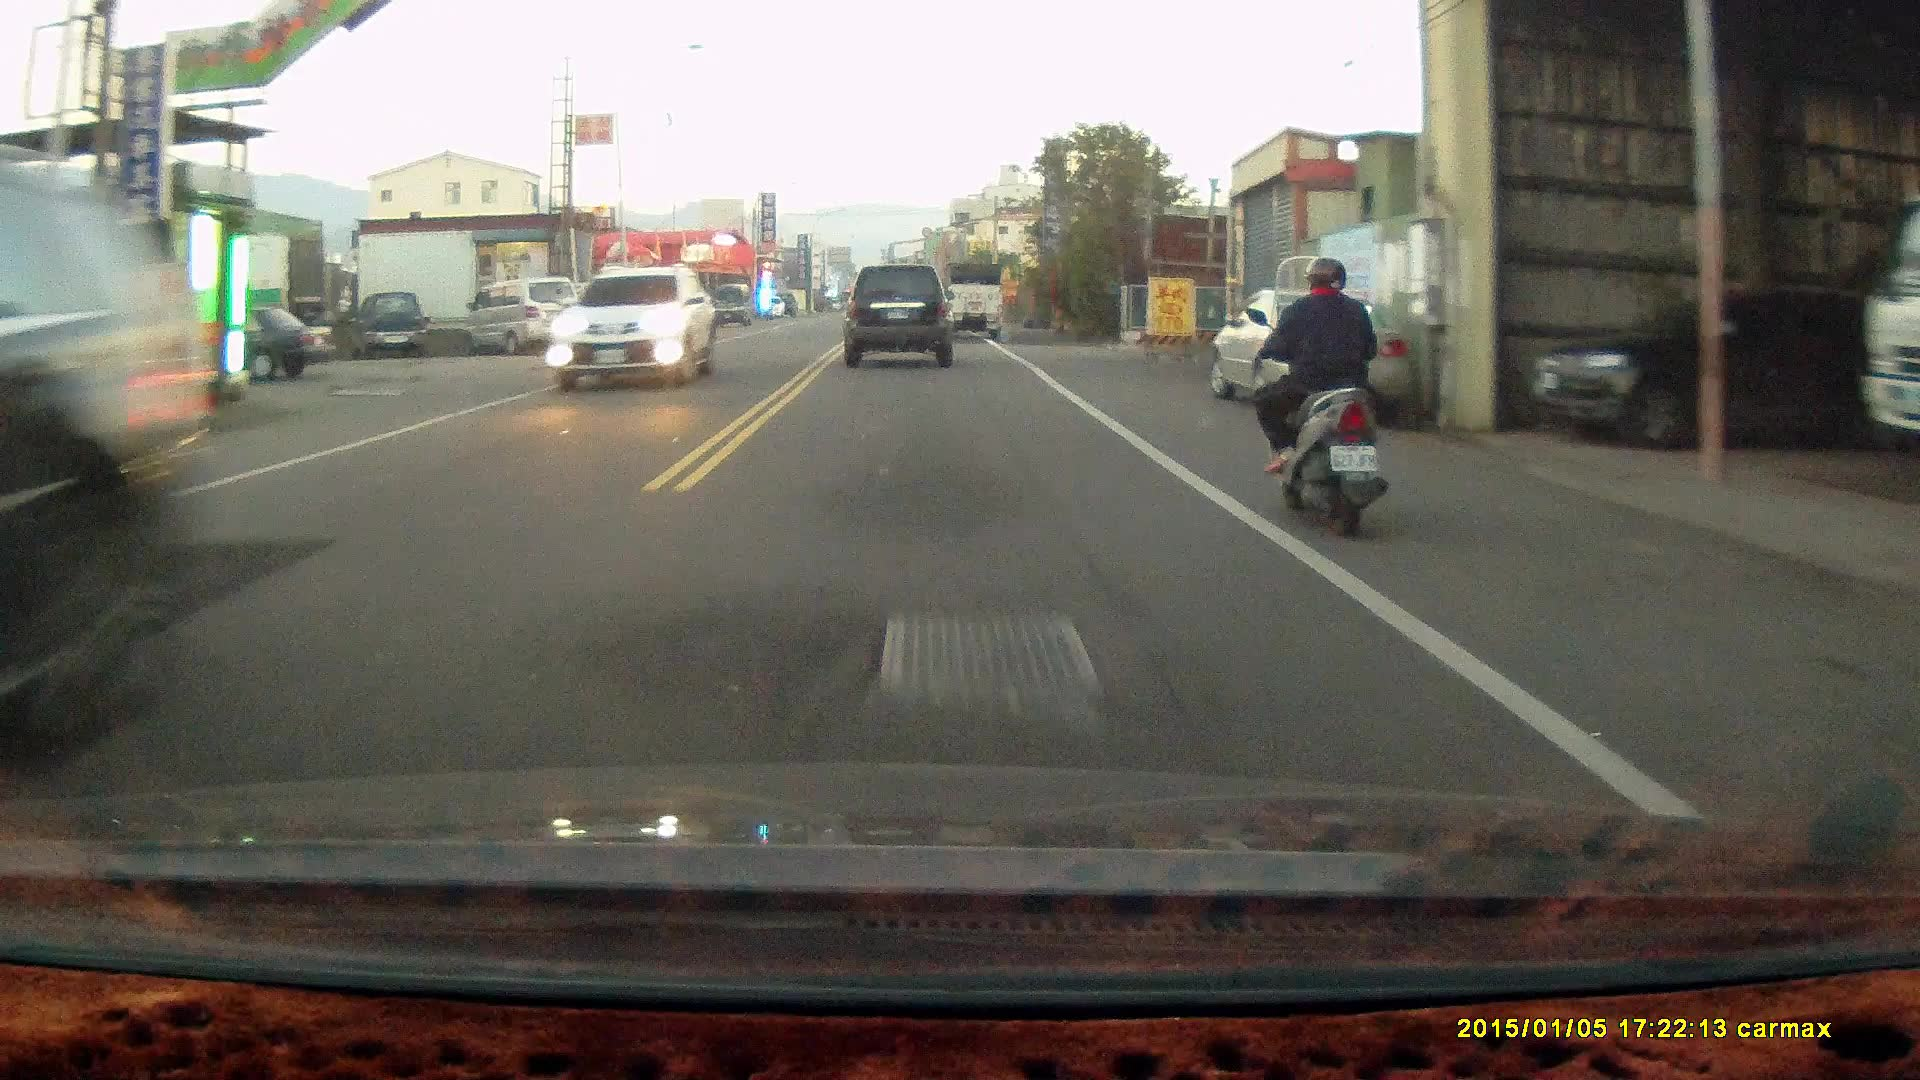rider: (1245, 257, 1390, 542)
vehicle: (1, 164, 213, 747), (1536, 293, 1876, 453), (1208, 286, 1424, 421), (545, 265, 719, 392), (171, 307, 337, 383), (844, 263, 957, 371), (468, 275, 580, 358), (939, 263, 1007, 343), (366, 291, 428, 360)
